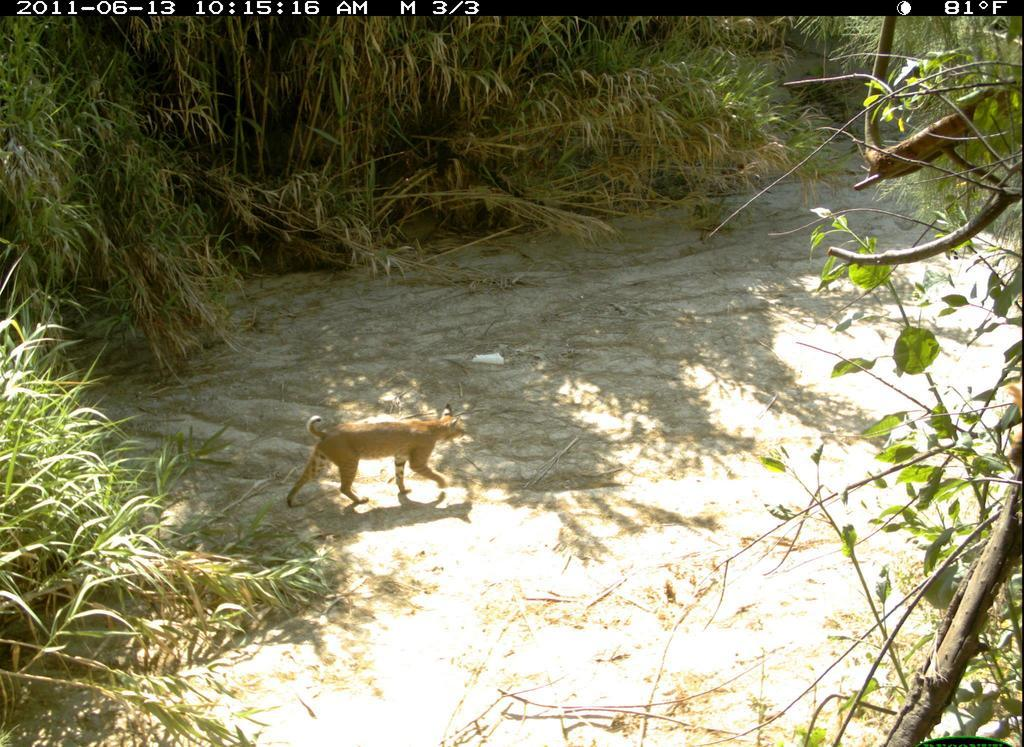bobcat: (281, 406, 474, 511)
